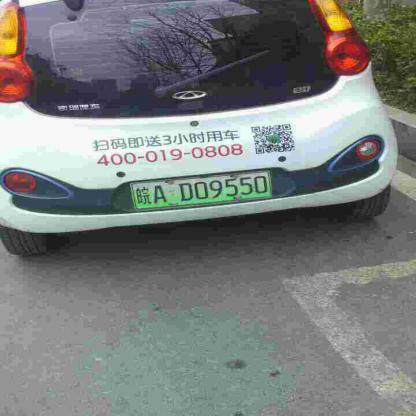lp: (131, 171, 272, 209)
